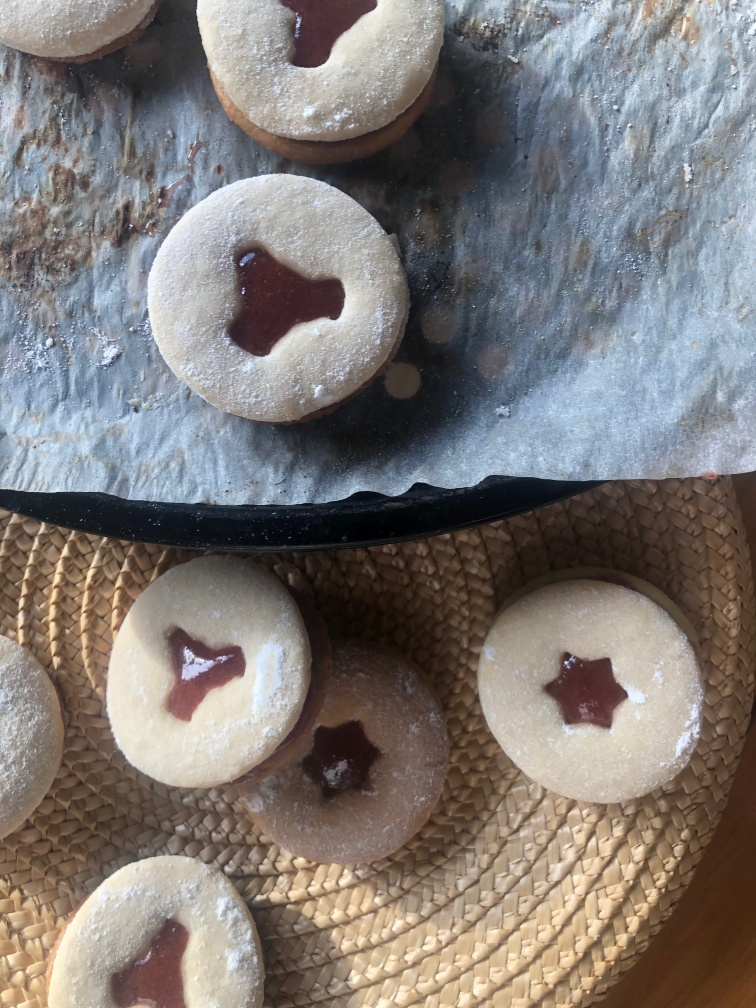christmas shortbread with jam: (145, 168, 416, 426), (479, 579, 707, 810), (105, 558, 314, 791), (266, 649, 444, 868), (192, 1, 438, 149), (39, 853, 271, 1008)
